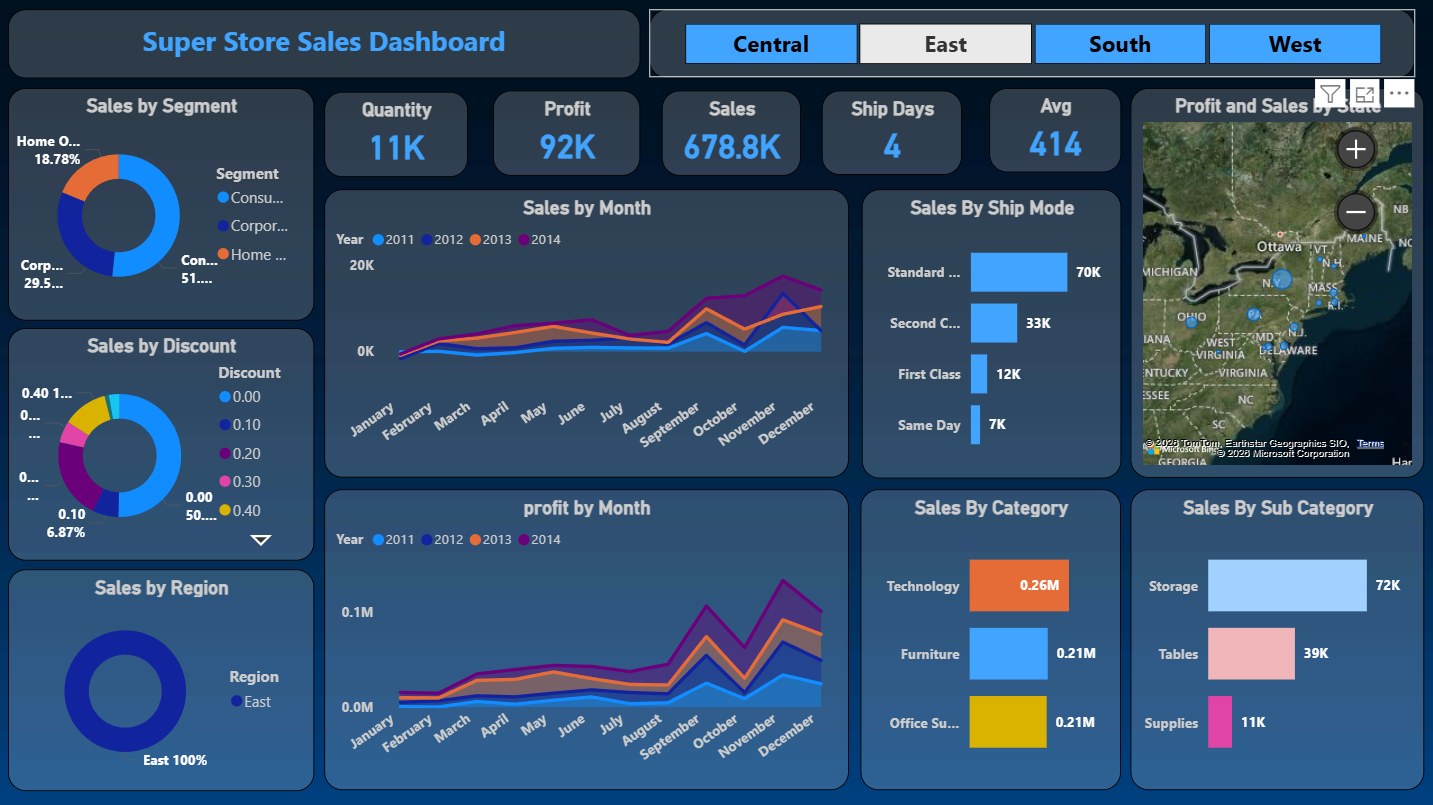

The dashboard page shown, as its layout file describes it:
{"tool":"powerbi","page":{"name":"Page 1","canvas":[1280,720],"ordinal":0},"visuals":[{"type":"clusteredBarChart","title":" Sales By Category","fields":{"Category":["Superstore.Category"],"Y":["Sum(Superstore.Sales)"]},"box":[768.5,437.9,231.6,267.8],"z":0},{"type":"clusteredBarChart","title":" Sales By Sub Category","fields":{"Category":["Superstore.Sub-Category"],"Y":["Sum(Superstore.Sales)"]},"box":[1008.6,437.9,261.8,267.8],"z":1000},{"type":"clusteredBarChart","title":" Sales By Ship Mode","fields":{"Category":["Superstore.Ship Mode"],"Y":["Sum(Superstore.Sales)"]},"box":[768.8,170,231.2,257.5],"z":2000},{"type":"stackedAreaChart","title":"profit by Month ","fields":{"Category":["Superstore.Order Date.Variation.Date Hierarchy.Month"],"Y":["Sum(Superstore.Sales)"],"Series":["Superstore.Order Date.Variation.Date Hierarchy.Year"]},"box":[290.8,437.9,466.9,267.8],"z":3000},{"type":"stackedAreaChart","title":"Sales by Month ","fields":{"Category":["Superstore.Order Date.Variation.Date Hierarchy.Month"],"Series":["Superstore.Order Date.Variation.Date Hierarchy.Year"],"Y":["Sum(Superstore.Profit)"]},"box":[290.8,170.1,466.9,257],"z":4000},{"type":"map","title":"Profit and Sales by State","fields":{"Category":["Superstore.State"],"Size":["Sum(Superstore.Sales)"]},"box":[1008.6,79.6,261.8,347.5],"z":5000},{"type":"donutChart","title":"Sales by Segment","fields":{"Category":["Superstore.Segment"],"Y":["Sum(Superstore.Sales)"]},"box":[8.4,79.6,272.7,207.5],"z":6000},{"type":"donutChart","title":" Sales by Discount","fields":{"Y":["Sum(Superstore.Sales)"],"Series":["Superstore.Discount"]},"box":[8.8,293.8,272.5,207.5],"z":7000},{"type":"slicer","fields":{"Values":["Superstore.Region"]},"box":[580.3,9.7,681.6,61.5],"z":8000},{"type":"textbox","box":[8.4,9.7,563.4,61.5],"z":9000},{"type":"card","title":"Sales","fields":{"Values":["Sum(Superstore.Sales)"]},"box":[591.2,82,124.3,76],"z":10000},{"type":"card","title":"Quantity","fields":{"Values":["Sum(Superstore.Quantity)"]},"box":[290.8,83.2,127.9,76],"z":11000},{"type":"card","title":"Profit","fields":{"Values":["Sum(Superstore.Profit)"]},"box":[440.4,82,131.5,76],"z":12000},{"type":"card","title":"Ship Days","fields":{"Values":["Avg(Superstore.Average Delivery)"]},"box":[733.8,82.5,125,75],"z":13000},{"type":"donutChart","title":" Sales by Region","fields":{"Category":["Superstore.Region"],"Y":["Sum(Superstore.Sales)"]},"box":[8.8,508.8,272.5,197.5],"z":14000},{"type":"card","title":"Avg","fields":{"Values":["Sum(Superstore.Discount)"]},"box":[882.5,80,117.5,75],"z":15000}]}

Visuals, with their boxes in screenshot pixels (x1, y1, x2, y2), scaled from the page's 1280x720 canvas onto the 1433x805 screenshot:
" Sales By Category" clusteredBarChart: bbox=(860, 490, 1120, 789)
" Sales By Sub Category" clusteredBarChart: bbox=(1129, 490, 1422, 789)
" Sales By Ship Mode" clusteredBarChart: bbox=(861, 190, 1120, 478)
"profit by Month " stackedAreaChart: bbox=(326, 490, 848, 789)
"Sales by Month " stackedAreaChart: bbox=(326, 190, 848, 478)
"Profit and Sales by State" map: bbox=(1129, 89, 1422, 478)
"Sales by Segment" donutChart: bbox=(9, 89, 315, 321)
" Sales by Discount" donutChart: bbox=(10, 328, 315, 560)
slicer - Superstore.Region: bbox=(650, 11, 1413, 80)
textbox: bbox=(9, 11, 640, 80)
"Sales" card: bbox=(662, 92, 801, 177)
"Quantity" card: bbox=(326, 93, 469, 178)
"Profit" card: bbox=(493, 92, 640, 177)
"Ship Days" card: bbox=(822, 92, 961, 176)
" Sales by Region" donutChart: bbox=(10, 569, 315, 790)
"Avg" card: bbox=(988, 89, 1120, 173)
